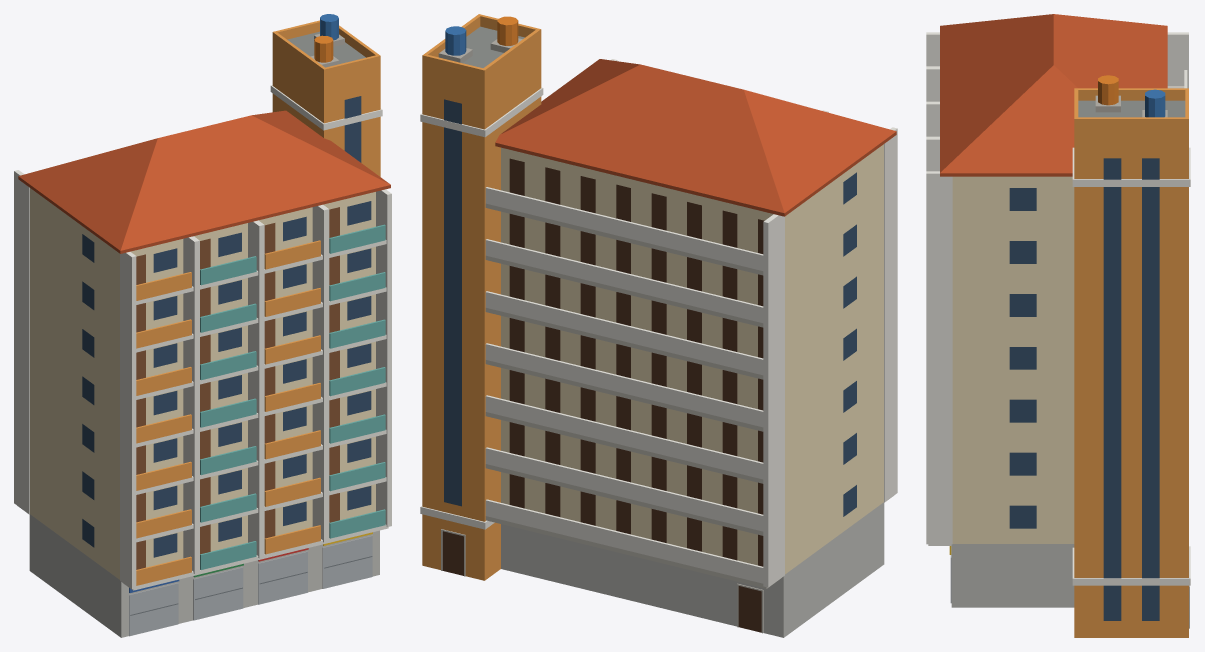
The model's file is gedung_07.glb.
3 views of the same model, side by side, from view 1: azimuth 30°, elevation 25°; view 2: azimuth 150°, elevation 25°; view 3: azimuth 270°, elevation 25° (orthographic). The views are drawn at different scales.
Visible parts, largest first — view 1: gedung_07; view 2: gedung_07; view 3: gedung_07.
Boxes of the visible parts, x1,y1,x2,y2 form: gedung_07: (14, 14, 391, 637); gedung_07: (420, 14, 897, 637); gedung_07: (926, 14, 1190, 637).
Size of the model in its own units: 21.28 by 30.35 by 13.58.
